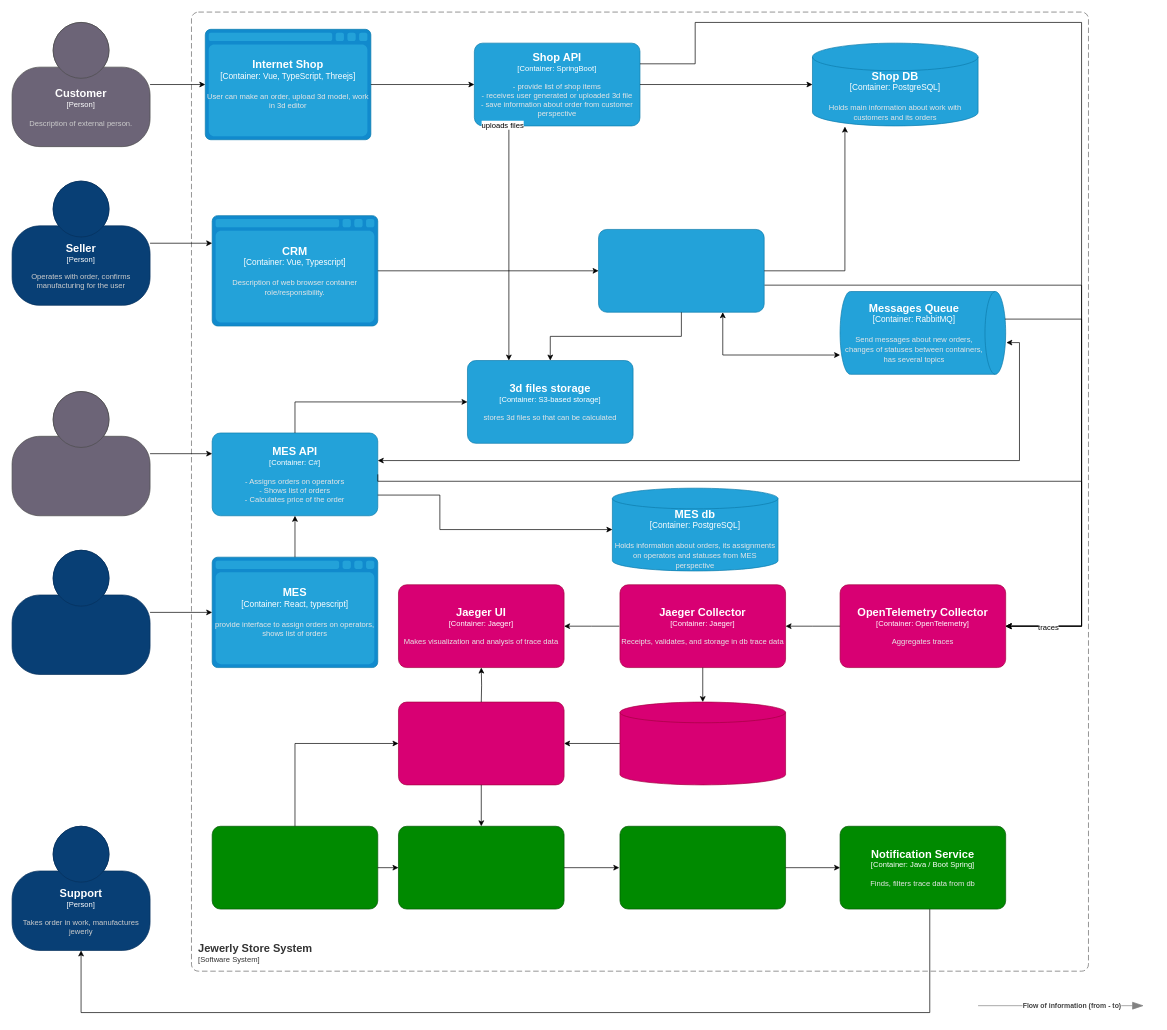
The diagram is 1167 pixels wide and 1030 high, and some of its shapes have lost their labels. Each missing label, with the box of its shape:
Alertmanager [Container: Alertmanager] Finds, filters trace data from db: (619, 826, 786, 909)
API user [Person] Description of external person.: (11, 391, 150, 516)
CRM API [Container: SpringBoot] Description of container role/responsibility.: (598, 229, 764, 312)
Grafana [Container: Grafana] Finds, filters trace data from db: (211, 826, 378, 909)
Jaeger db [Container: Elasticsearch] Holds trace data: (619, 701, 786, 785)
Operator [Person] Takes order in work, manufactures jewerly: (11, 550, 150, 674)
Prometheus [Container: Prometheus] Finds, filters trace data from db: (398, 826, 564, 909)
Query Service [Container: Jaeger] Finds, filters trace data from db: (398, 701, 564, 785)
